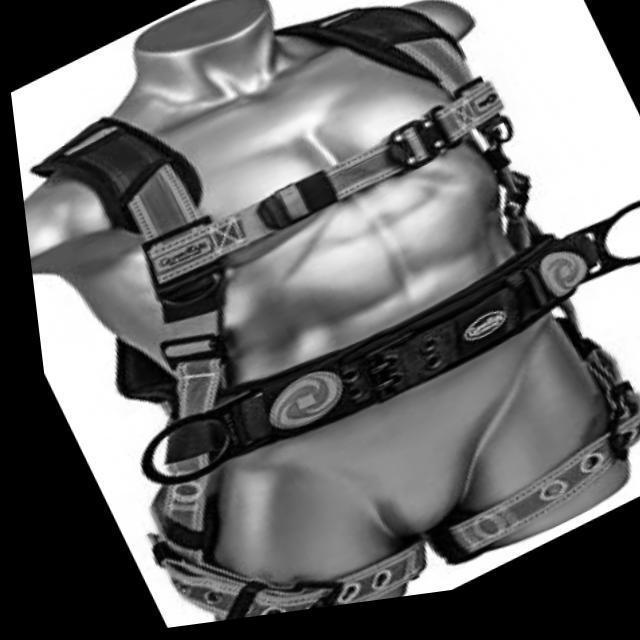Harness: (33, 5, 549, 484)
